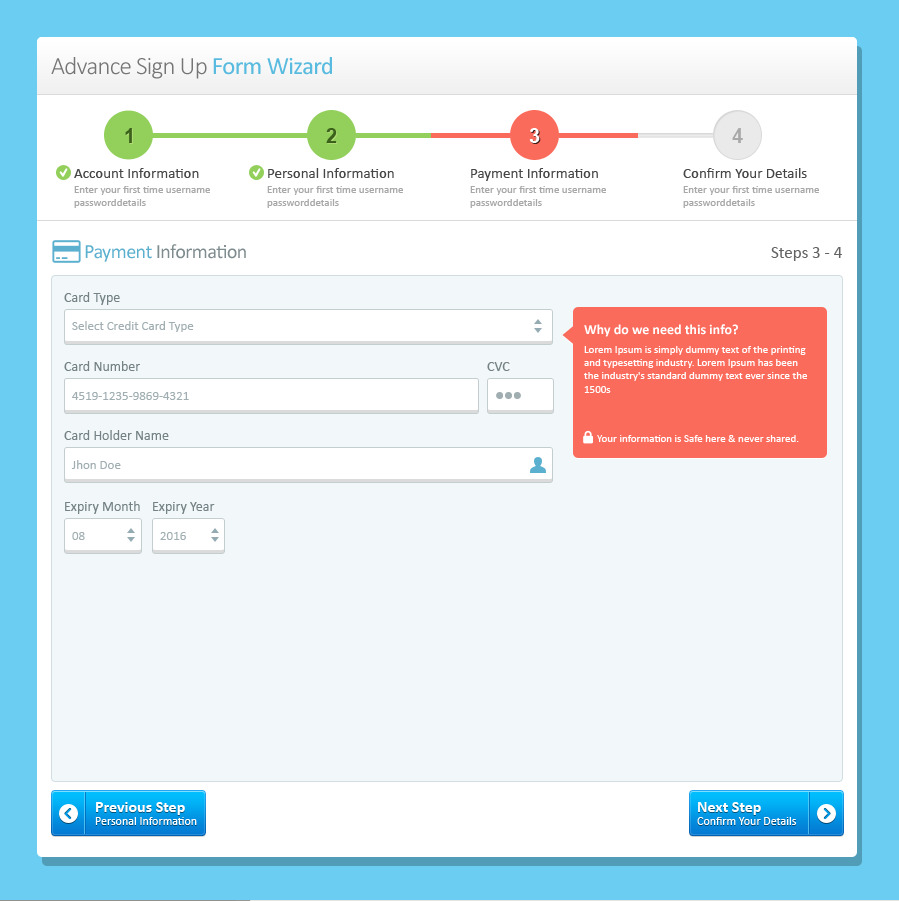_form_: (57, 267, 564, 569), (32, 753, 231, 875), (663, 757, 862, 879)
button: (50, 788, 206, 837), (690, 789, 846, 837)
field: (61, 445, 555, 484), (61, 375, 480, 415), (484, 375, 555, 415)
field_with_label: (59, 428, 558, 487), (61, 292, 557, 348), (59, 360, 482, 417), (59, 501, 146, 558), (150, 501, 230, 556), (484, 360, 557, 418)
select: (63, 307, 555, 345), (63, 517, 144, 555), (151, 517, 228, 555)
